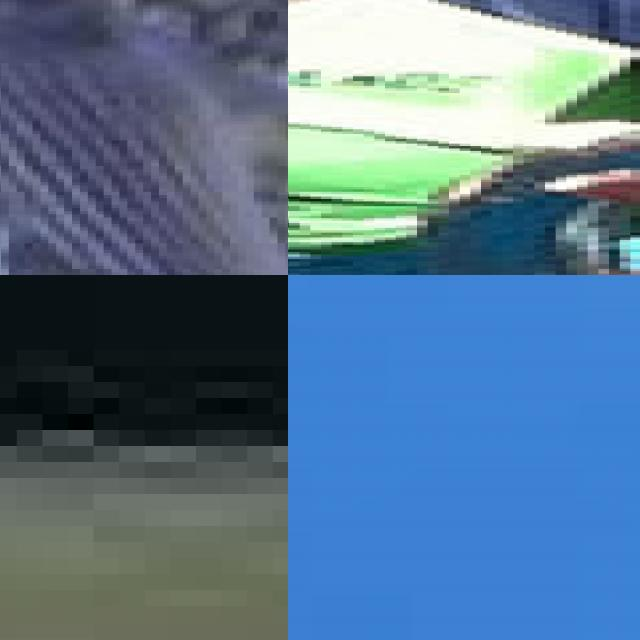fish: (0, 275, 288, 640), (0, 0, 288, 275)
